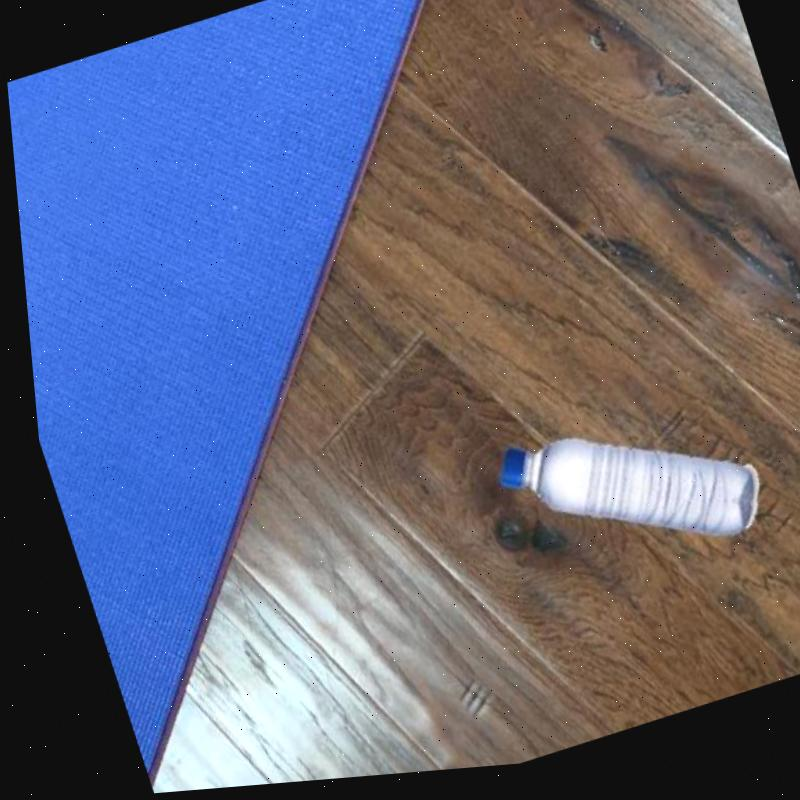botella: (480, 391, 765, 608)
